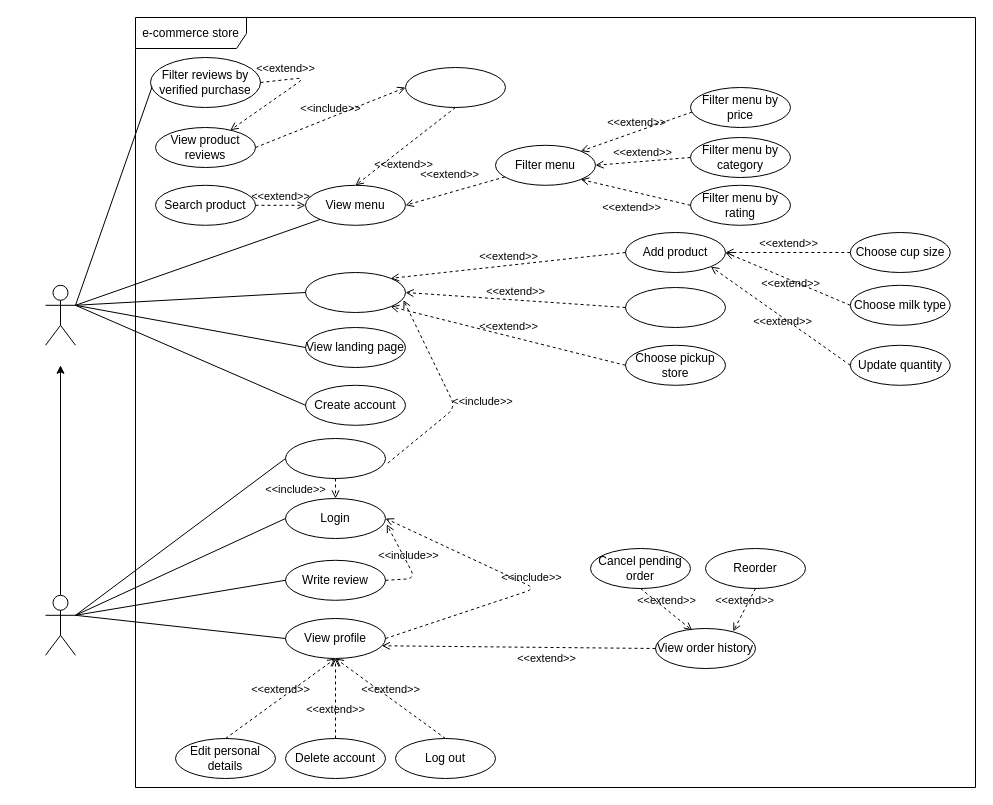
This 993x805 diagram has some shape labels left out. The centre of each missing label's shape, as x and y in pixels:
Checkout: [335,458]
Registered User: [60,624]
Remove product: [675,307]
View personal shopping cart: [355,292]
View product details: [455,87]
Visitor: [60,314]
